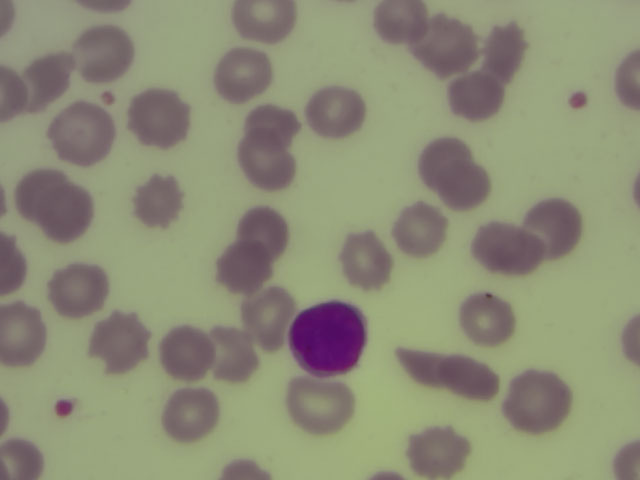Platelets: (47, 393, 79, 426), (565, 86, 594, 114), (95, 86, 119, 110)
RBC: (240, 283, 289, 355), (1, 298, 44, 372), (231, 1, 301, 45), (339, 235, 393, 288), (395, 205, 449, 258), (509, 377, 563, 430), (410, 423, 464, 476), (461, 292, 515, 345), (478, 222, 532, 275), (530, 199, 584, 252), (439, 158, 493, 211), (447, 70, 501, 123), (479, 22, 533, 75), (421, 18, 475, 71), (292, 380, 346, 433), (240, 136, 294, 189), (214, 240, 268, 293), (163, 389, 217, 442), (92, 316, 146, 369), (50, 262, 104, 315), (132, 174, 186, 227), (309, 87, 363, 140), (216, 48, 270, 101), (132, 89, 186, 142), (53, 105, 107, 158), (74, 29, 128, 82), (17, 56, 71, 109), (208, 329, 261, 382), (161, 322, 213, 376), (41, 186, 91, 241), (238, 204, 290, 253), (392, 347, 454, 387), (16, 167, 60, 223), (243, 105, 300, 148), (372, 1, 431, 41), (420, 137, 471, 181), (444, 359, 503, 397), (611, 50, 640, 111), (1, 440, 43, 480), (1, 61, 25, 126), (1, 235, 24, 300), (605, 439, 640, 480), (617, 309, 640, 371)
WBC: (289, 294, 371, 379)
